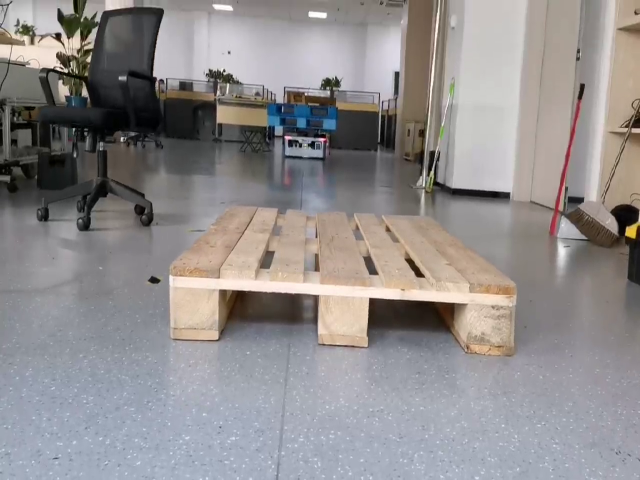block: (466, 286, 518, 354), (319, 284, 372, 345), (171, 276, 221, 340)
front: (169, 273, 515, 353)
hole pallet: (367, 298, 468, 353), (218, 291, 318, 342)
